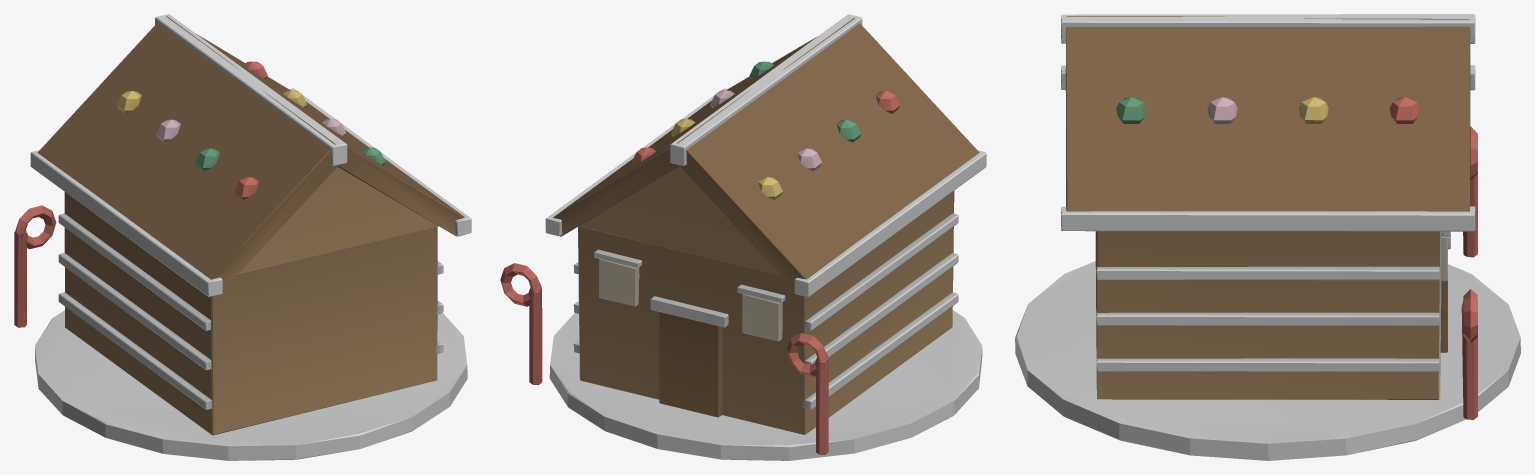
The model's file is xmas_gingerbread_house_low.glb.
The picture shows the model from 3 angles, left to right: view 1: azimuth 30°, elevation 25°; view 2: azimuth 150°, elevation 25°; view 3: azimuth 270°, elevation 25°; orthographic projection. The views are drawn at different scales.
Size of the model in its own units: 0.4995 by 0.3675 by 0.4996.
